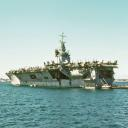Portanaves: (5, 27, 117, 90)
